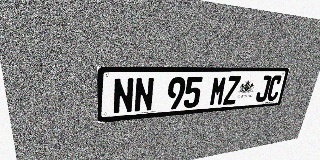5: (183, 77, 203, 108)
9: (166, 77, 186, 110)
C: (266, 75, 283, 101)
J: (255, 75, 272, 102)
M: (209, 76, 228, 106)
N: (113, 78, 134, 114), (134, 77, 155, 113)
Z: (223, 76, 241, 105)
